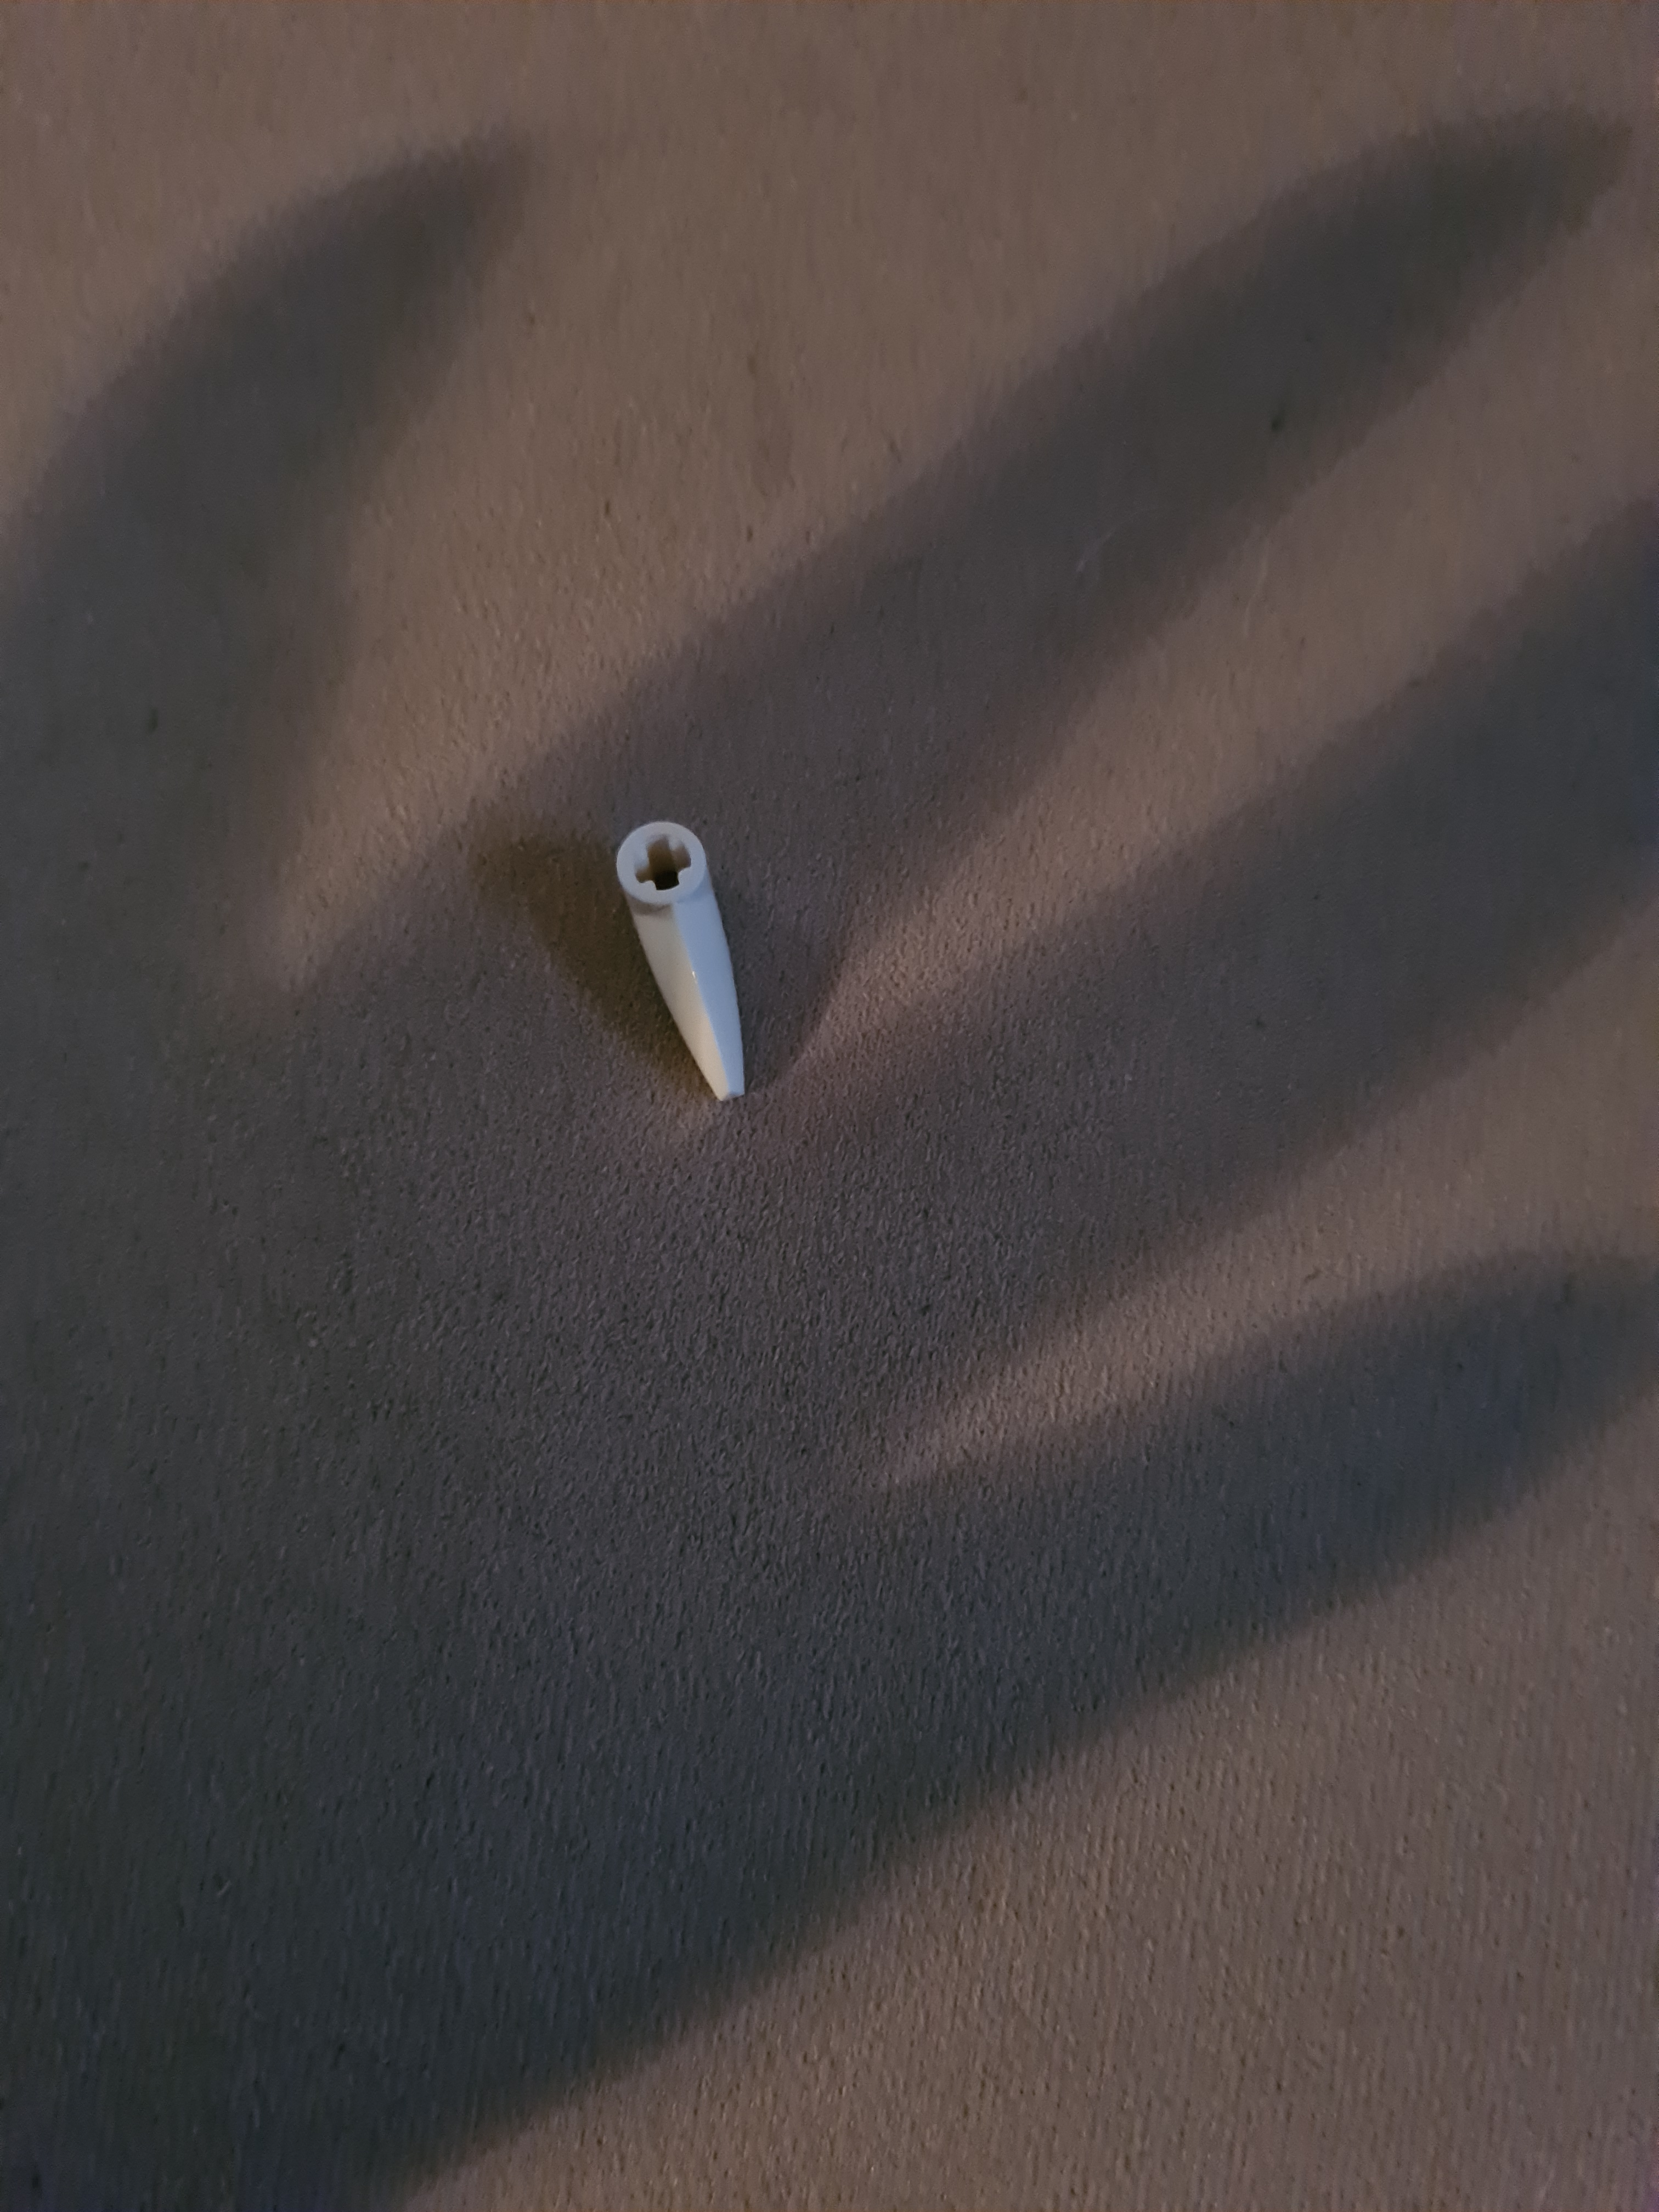Kappe: (587, 796, 796, 1130)
